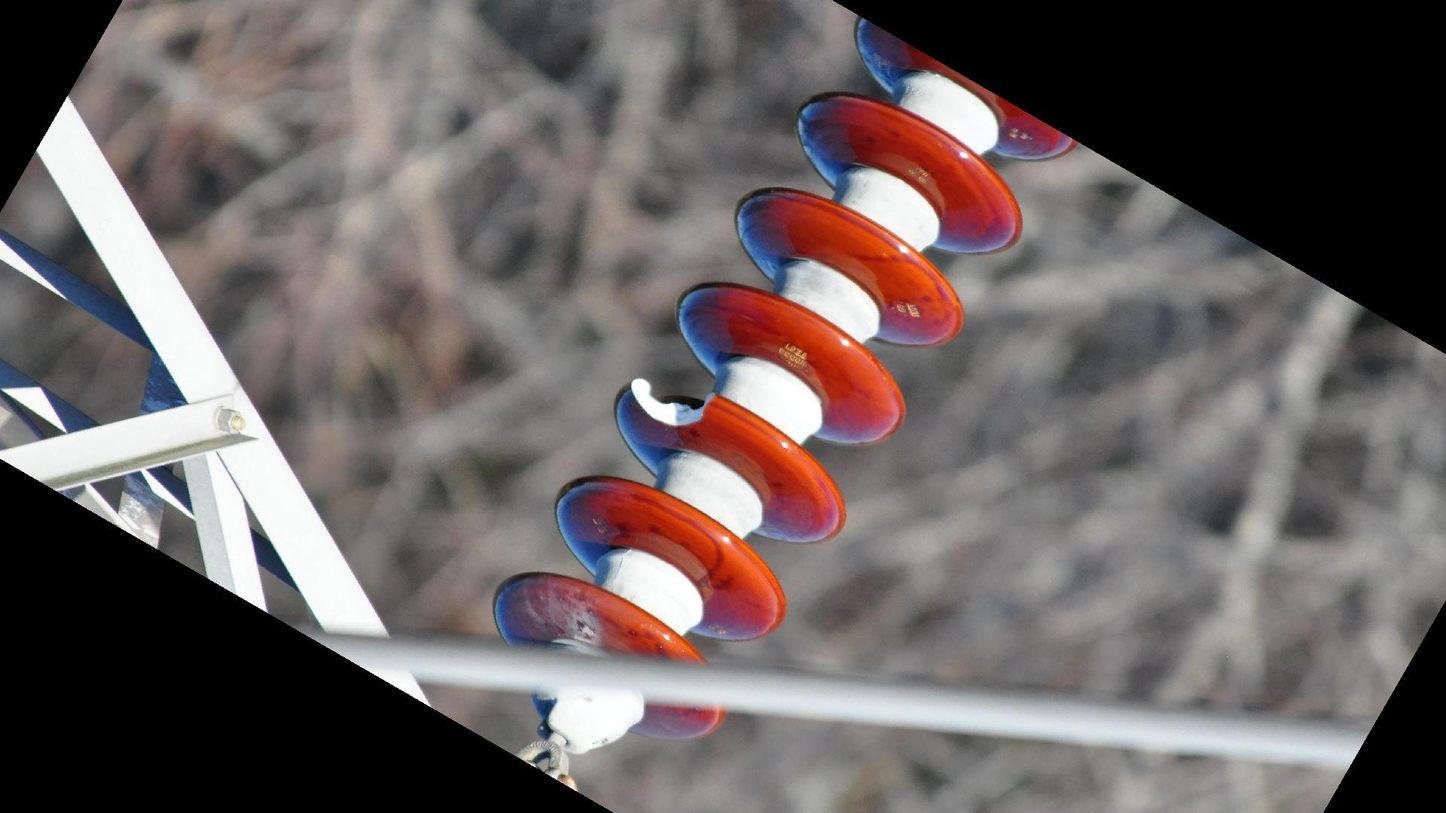insulator: (484, 13, 1089, 750)
insulator_breakage: (618, 370, 737, 443)
